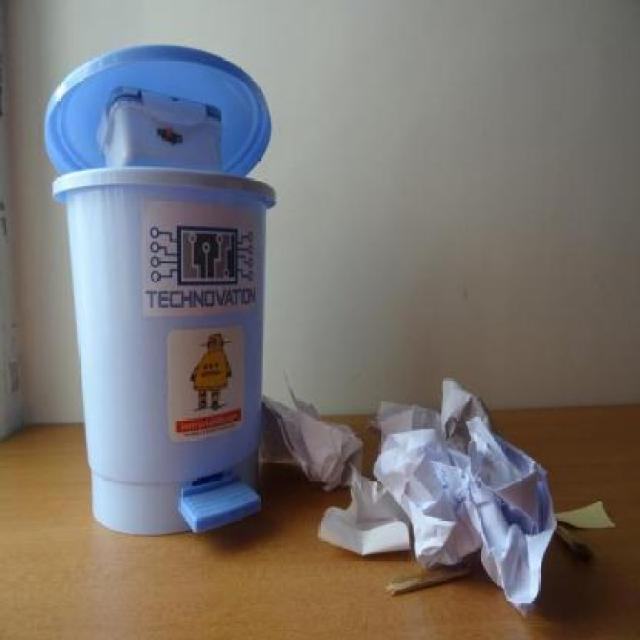garbage: (283, 399, 557, 575)
